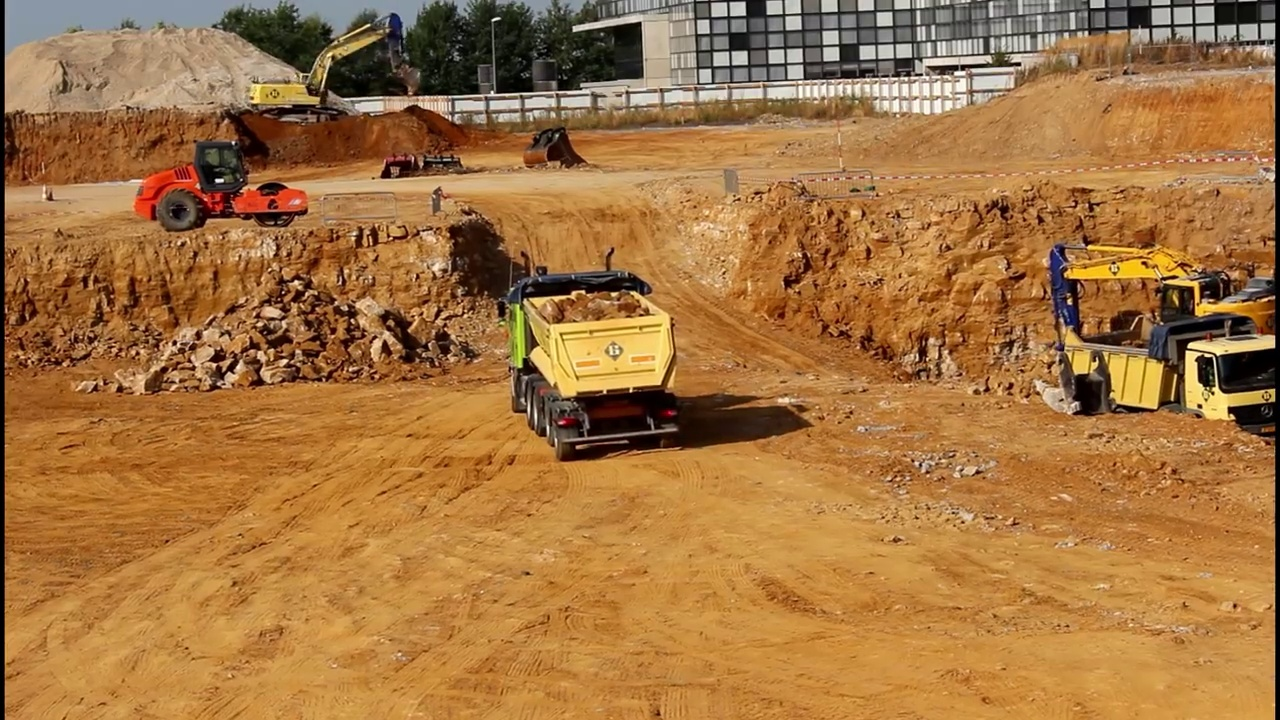compactor: (131, 140, 312, 230)
excavator: (1038, 240, 1280, 396), (246, 12, 424, 126)
truck: (498, 247, 688, 462), (1060, 310, 1280, 451)
